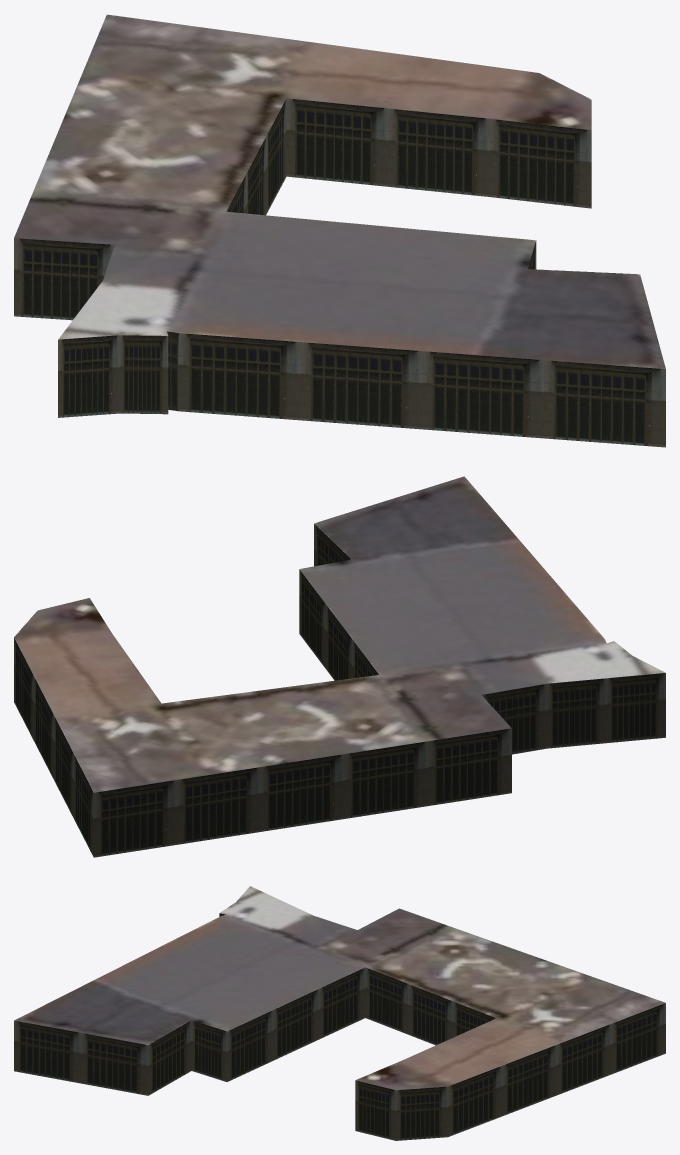
3 views of the same model, one above another, from view 1: azimuth 30°, elevation 25°; view 2: azimuth 150°, elevation 25°; view 3: azimuth 270°, elevation 25° (orthographic). The views are drawn at different scales.
Visible parts, largest first — view 1: SketchUp (×9); view 2: SketchUp (×7); view 3: SketchUp (×9).
Part boxes in pixels (x1,y1,x2,y2): SketchUp (×9): [14, 14, 665, 447]; SketchUp (×7): [14, 476, 665, 857]; SketchUp (×9): [14, 886, 665, 1140].
Size of the model in its own units: 33.75 by 45.54 by 3.91.
Materials: 2 (2 with a texture image).
